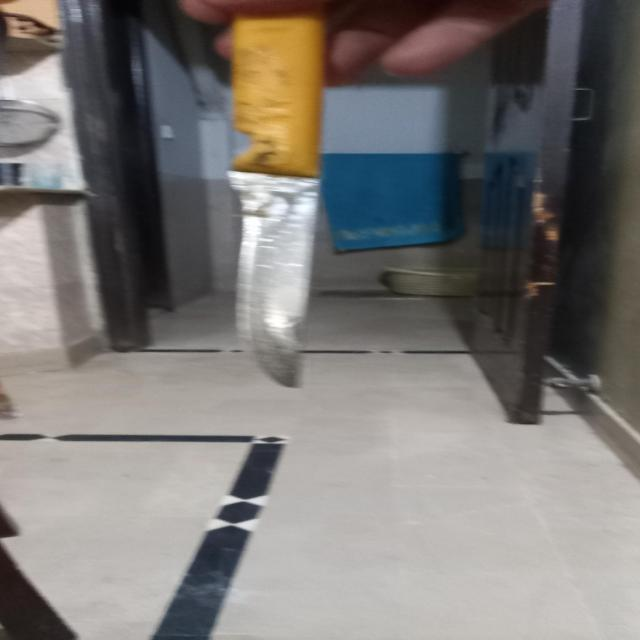Knife: (214, 0, 329, 387)
Person: (166, 0, 564, 79)
